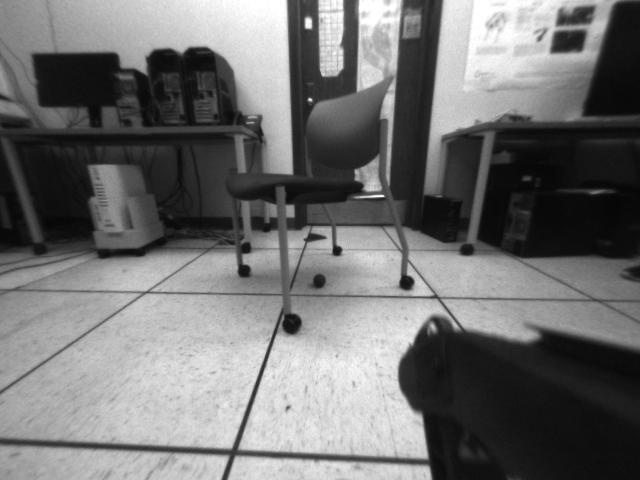dogtoy: (307, 268, 333, 293)
